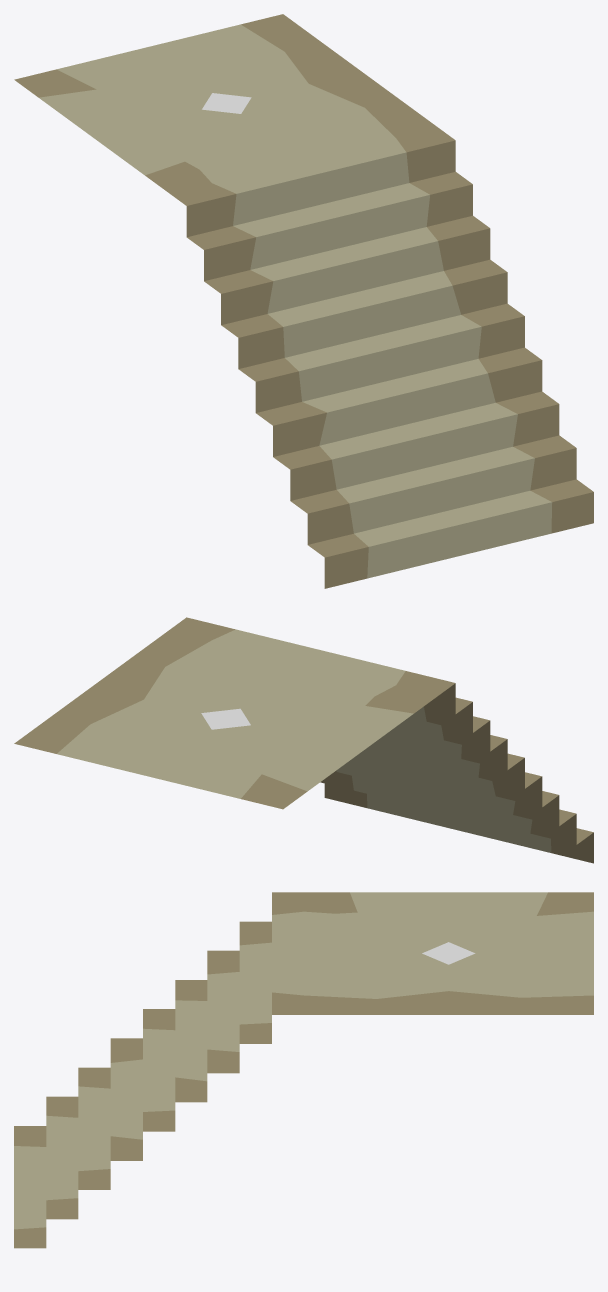
The model's file is 45s Right Straight RL.fbx.
3 renders of one model, top to bottom at view 1: azimuth 30°, elevation 25°; view 2: azimuth 150°, elevation 25°; view 3: azimuth 270°, elevation 25°, orthographic. The views are drawn at different scales.
Visible parts, largest first — view 1: polySurface7634; view 2: polySurface7634; view 3: polySurface7634.
Part boxes in pixels (left/top/right/bottom): polySurface7634: left=14, top=14, right=593, bottom=588; polySurface7634: left=14, top=617, right=593, bottom=863; polySurface7634: left=14, top=892, right=593, bottom=1248.
Bounding box in the file's own units: 100 × 100 × 200.
